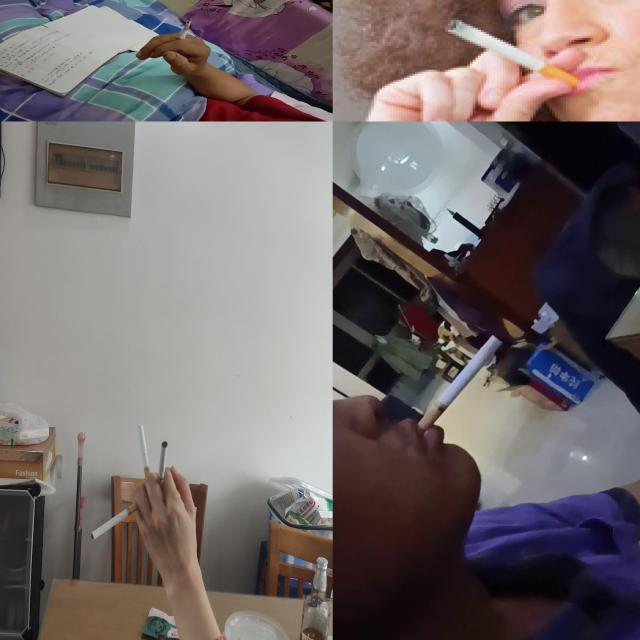smoking: (443, 18, 580, 89), (416, 334, 504, 432), (91, 500, 142, 540), (138, 425, 152, 487), (156, 441, 168, 493), (174, 19, 192, 44)
